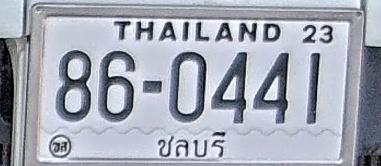0: (170, 51, 206, 122)
1: (306, 52, 320, 124)
4: (253, 51, 290, 124), (212, 51, 248, 123)
6: (99, 49, 136, 122)
8: (56, 49, 91, 121)
CBI: (149, 127, 227, 165)
